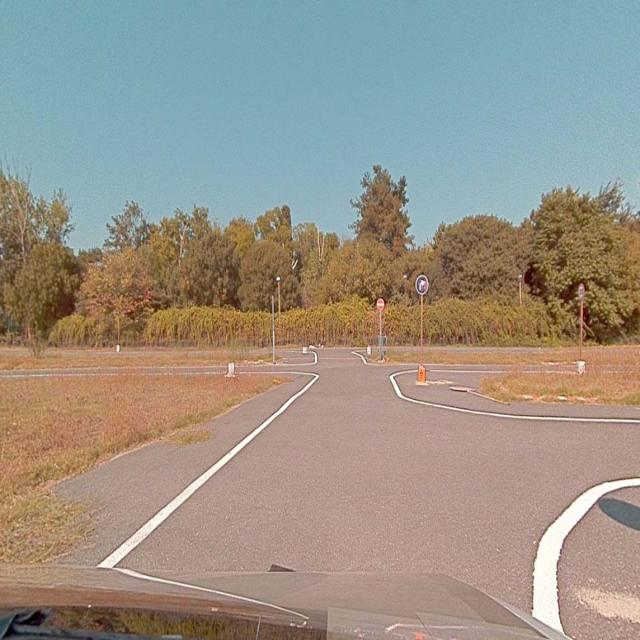girisyok: (376, 299, 384, 309)
sag: (415, 275, 429, 293)
